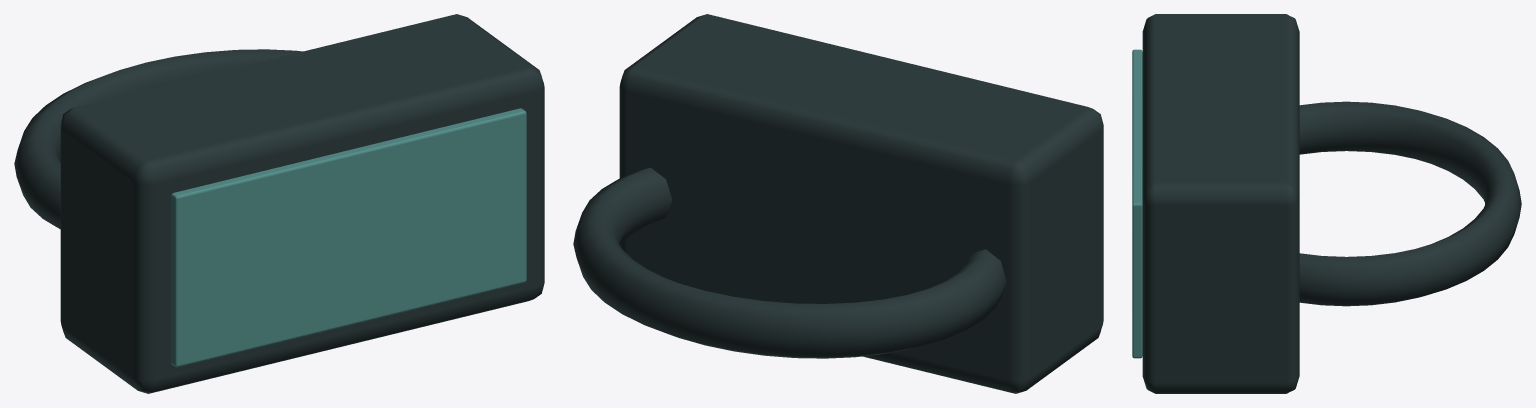
File: wp-casque-vr.glb
3 views of the same model, side by side, from view 1: azimuth 30°, elevation 25°; view 2: azimuth 150°, elevation 25°; view 3: azimuth 270°, elevation 25° (orthographic). The views are drawn at different scales.
Parts seen in each view (by area): view 1: wp-casque-vr; view 2: wp-casque-vr; view 3: wp-casque-vr.
Boxes of the visible parts, left/top/right/bottom form: wp-casque-vr: left=14, top=14, right=544, bottom=393; wp-casque-vr: left=573, top=14, right=1103, bottom=393; wp-casque-vr: left=1132, top=14, right=1521, bottom=393.
Bounding box in the file's own units: 0.22 × 0.12 × 0.2.
